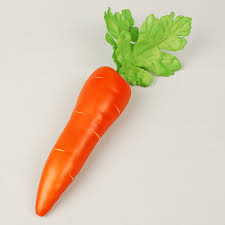carrot: (22, 63, 149, 219)
